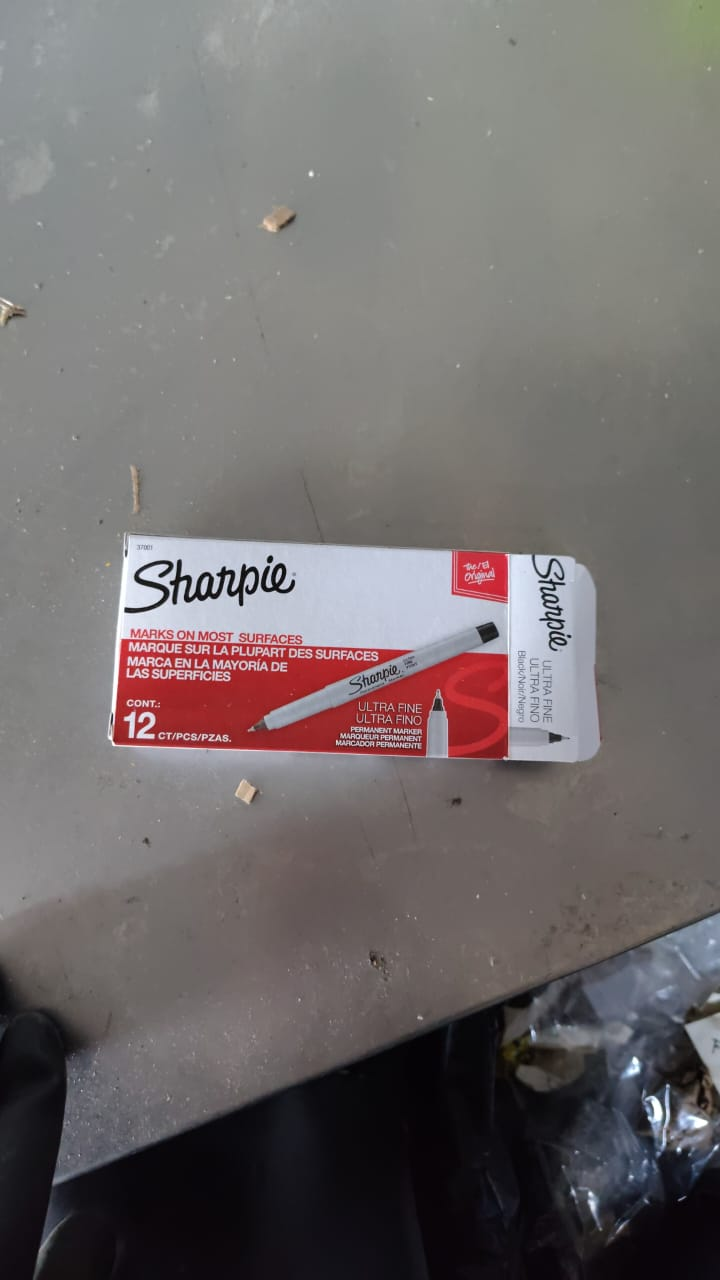Carton: (111, 536, 609, 764)
